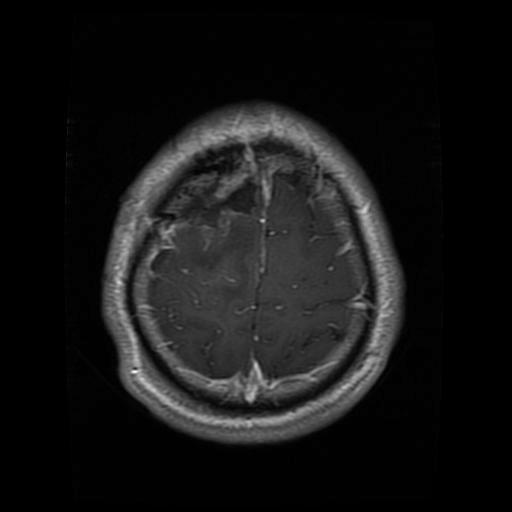Tumour-Glioma: (162, 147, 267, 230)
